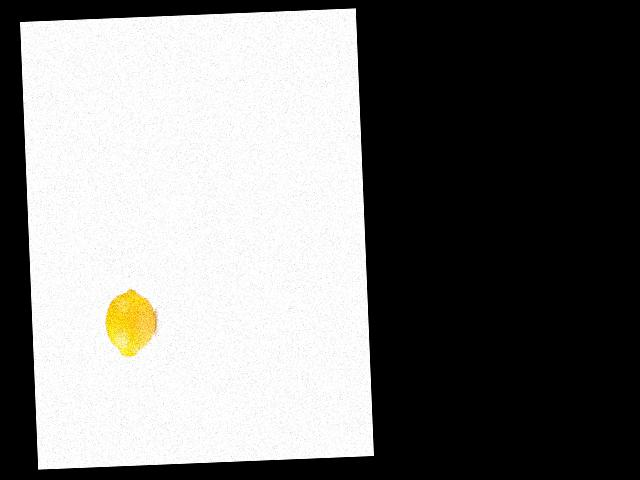lemon: (102, 286, 160, 361)
